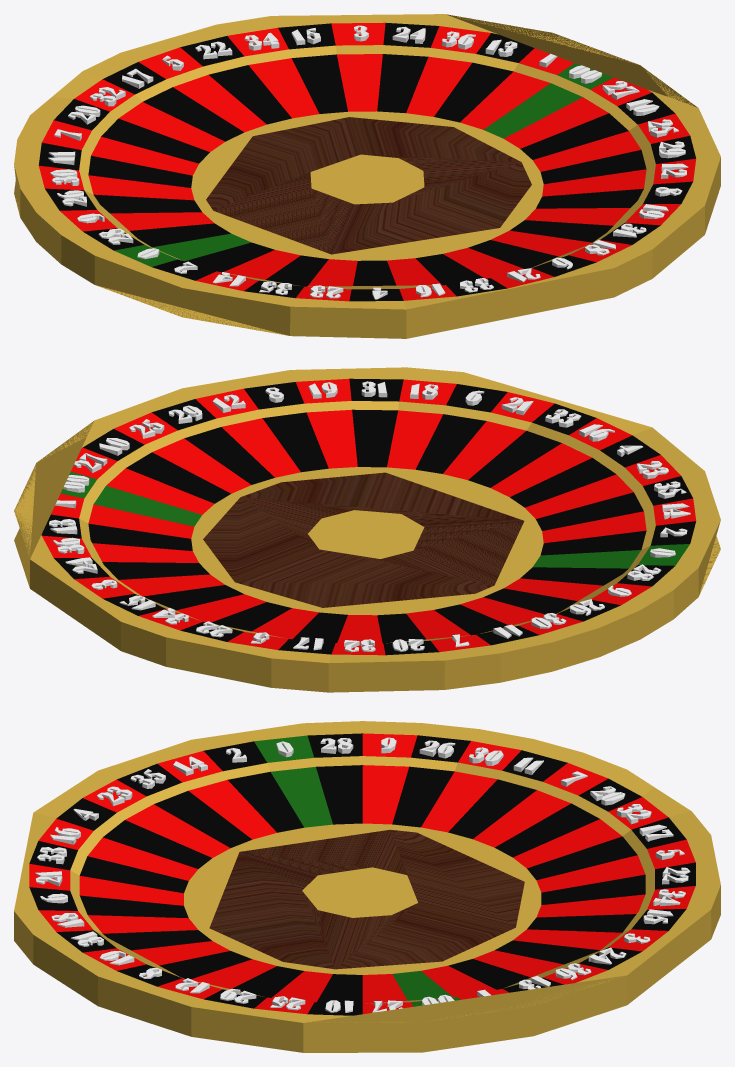
The model's file is Roulette Shield.glb.
The picture shows the model from 3 angles, top to bottom: view 1: azimuth 30°, elevation 25°; view 2: azimuth 150°, elevation 25°; view 3: azimuth 270°, elevation 25°; orthographic projection.
Parts seen in each view (by area): view 1: Wheel Shield; view 2: Wheel Shield; view 3: Wheel Shield.
Boxes of the visible parts, x1=… form: Wheel Shield: x1=14, y1=14, x2=720, y2=338; Wheel Shield: x1=14, y1=367, x2=720, y2=692; Wheel Shield: x1=14, y1=721, x2=720, y2=1052.
Size of the model in its own units: 0.7568 by 0.0366 by 0.7491.
6 materials, 1 textured.
